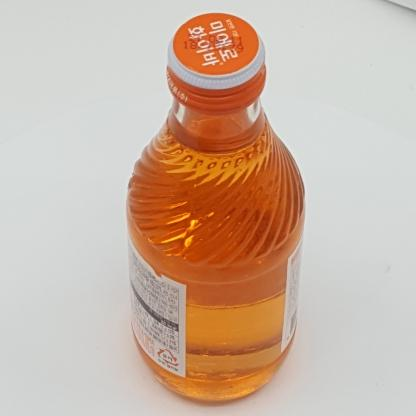--------210ML: (126, 13, 305, 405)
